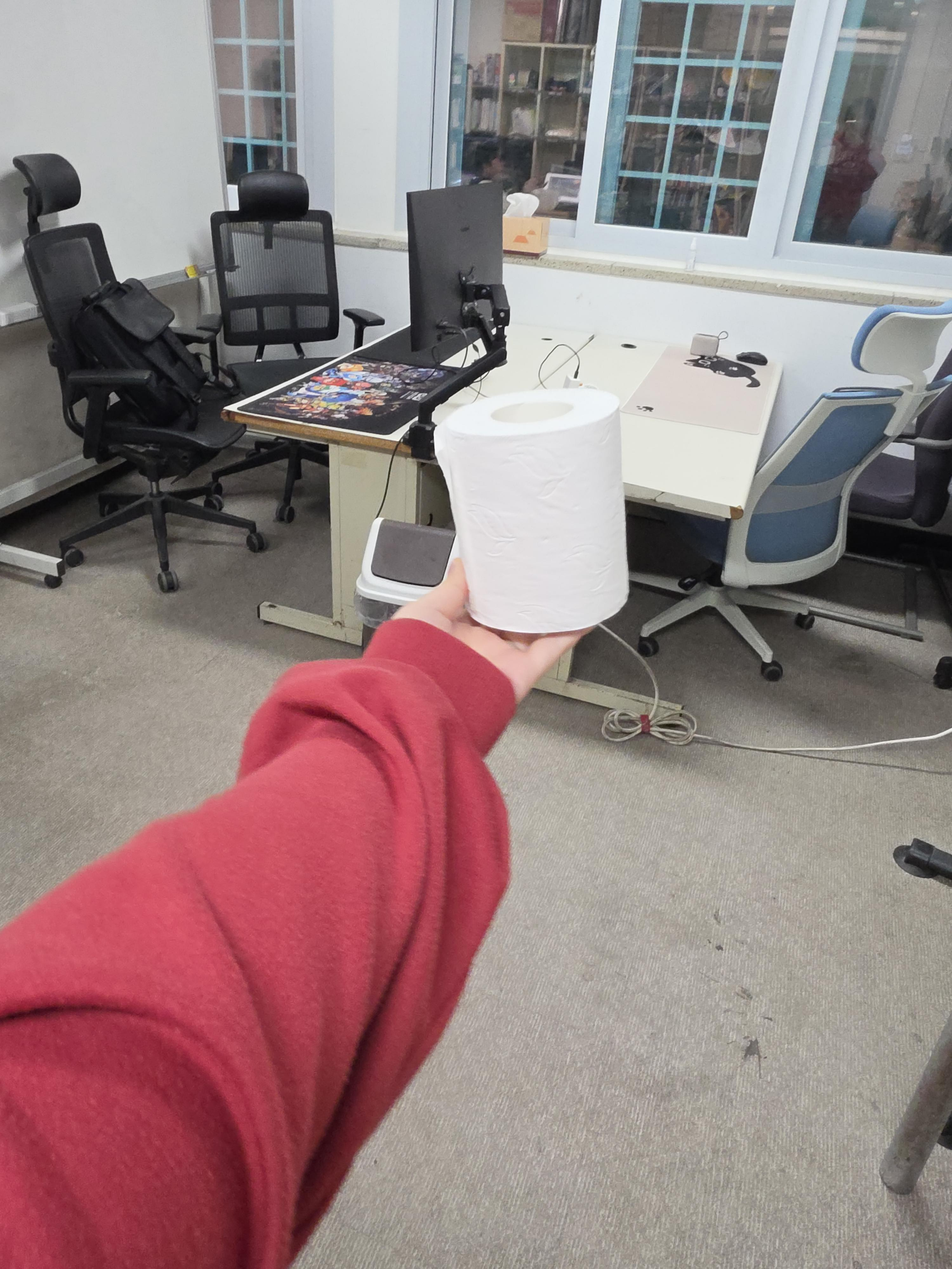tissue: (434, 388, 629, 635), (502, 192, 550, 257)
